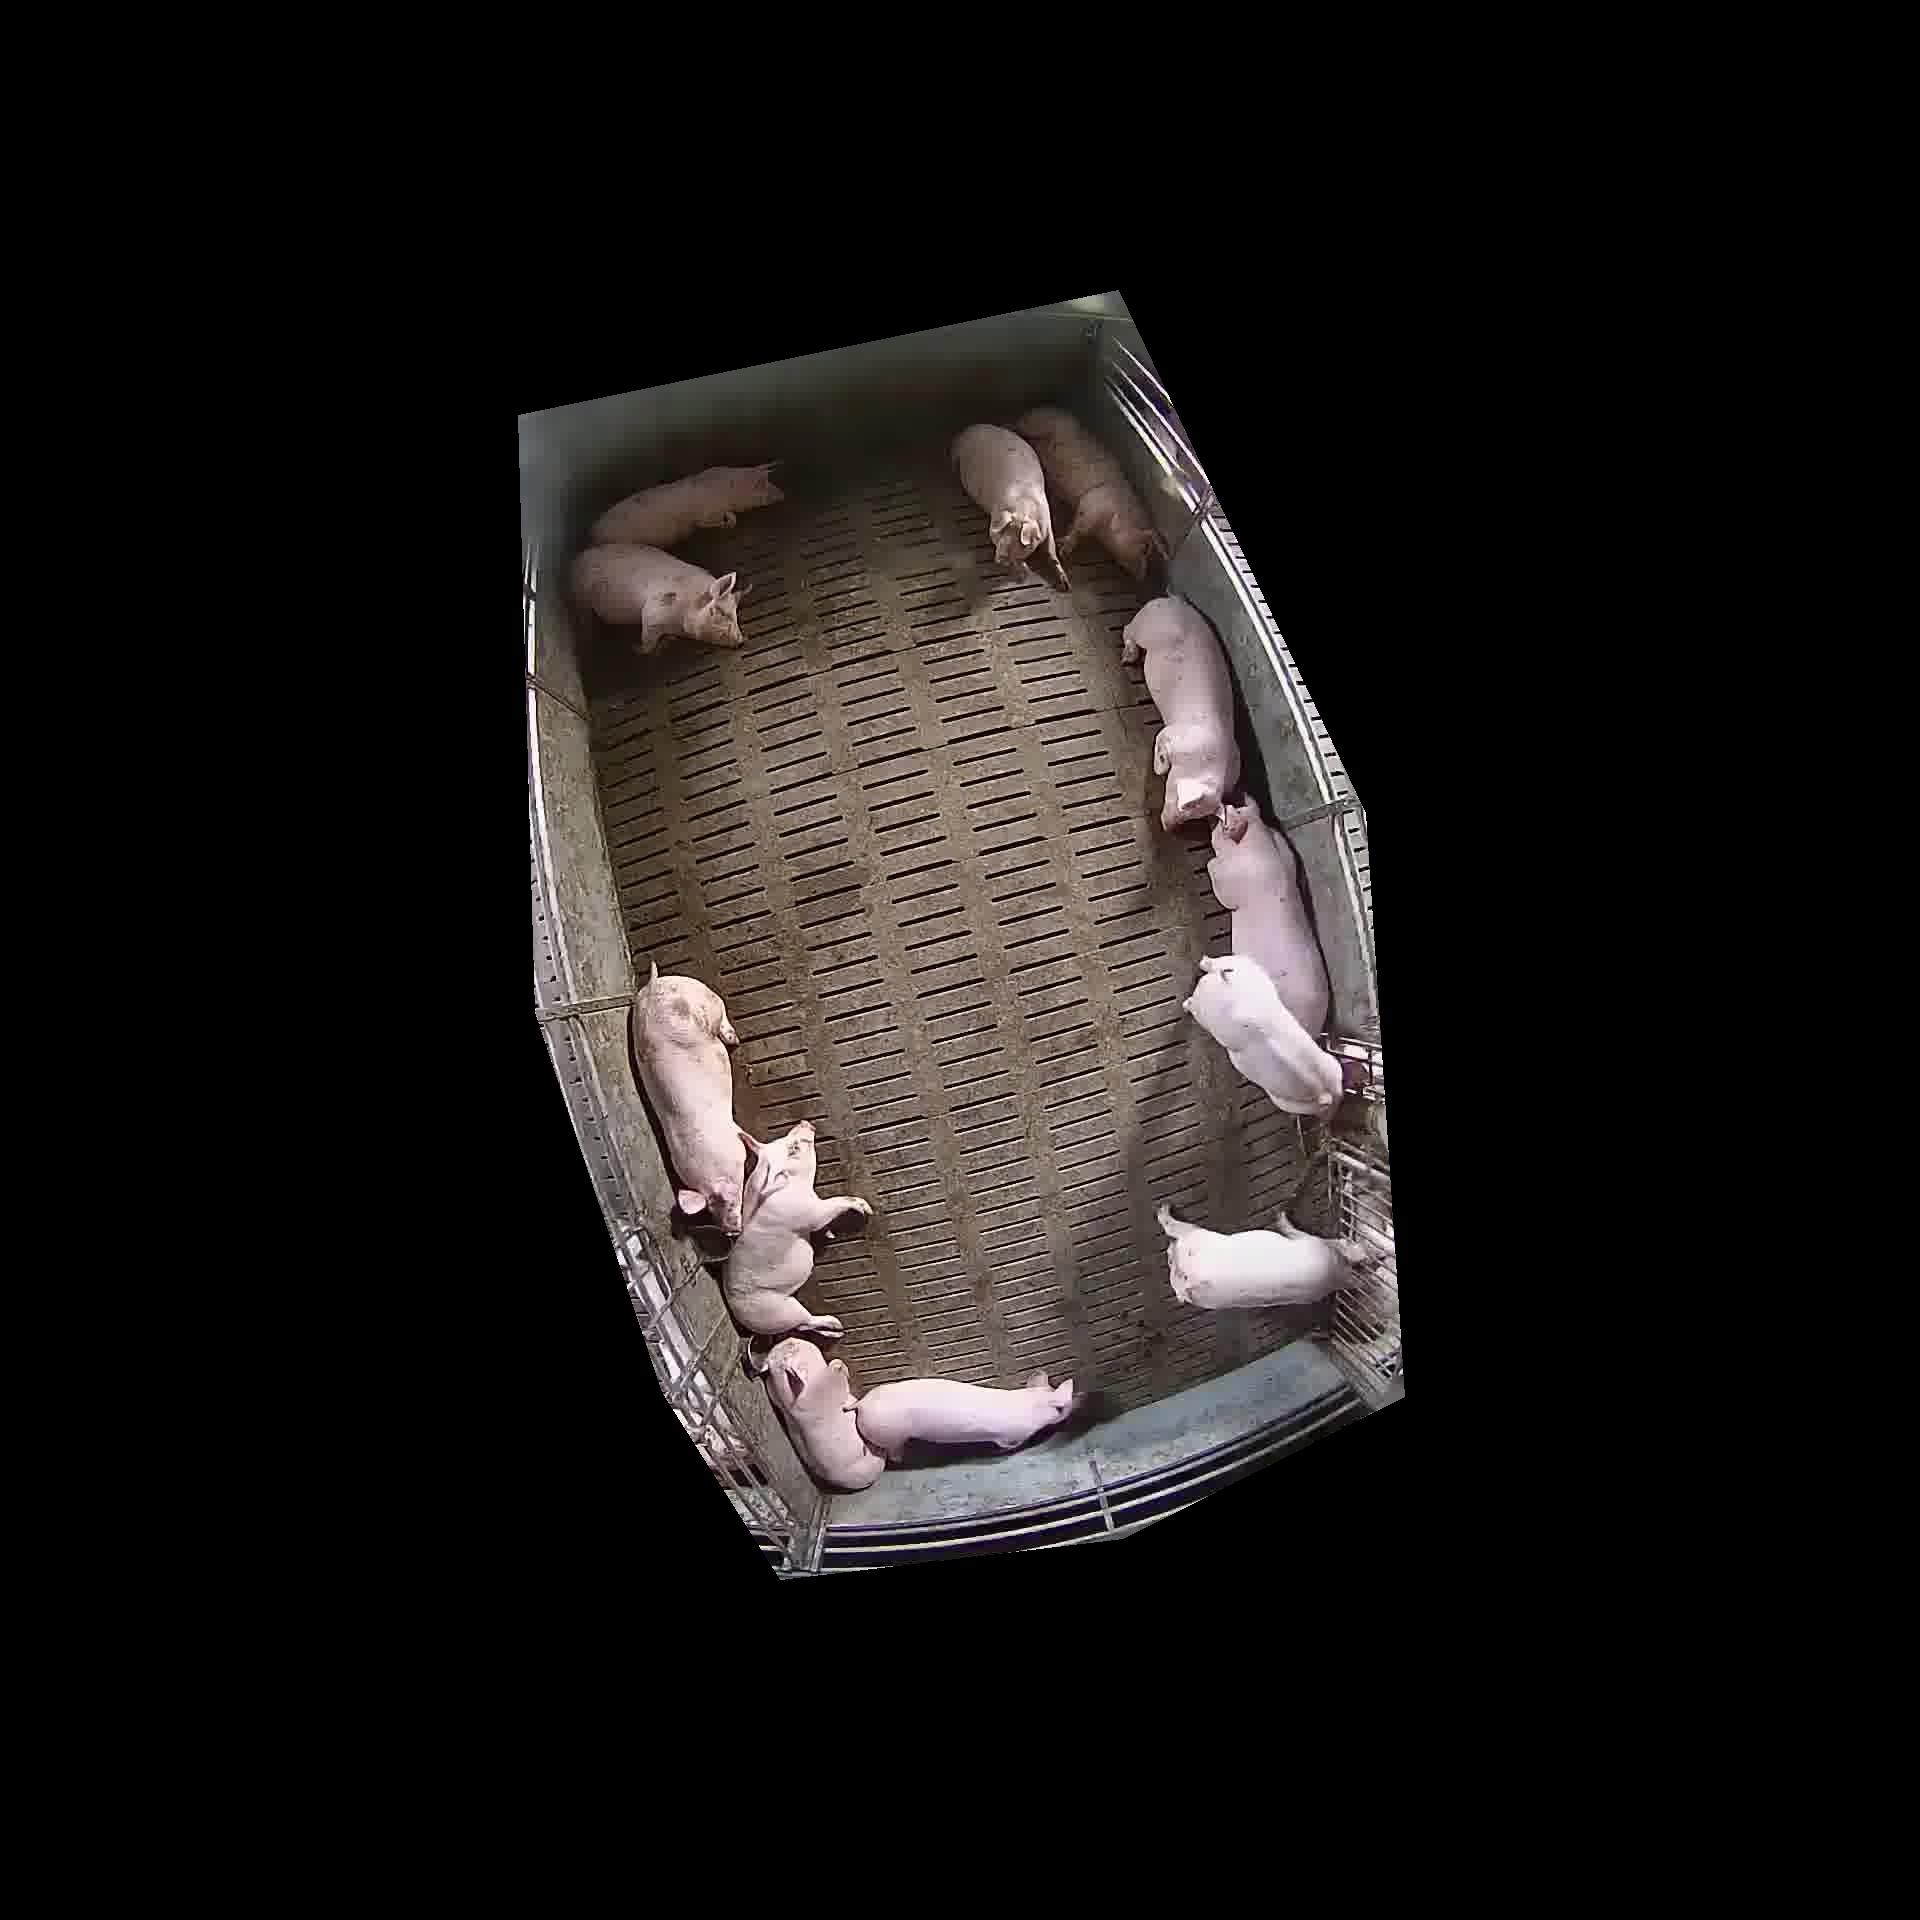pig: (726, 1120, 872, 1335), (631, 965, 745, 1234), (1206, 789, 1326, 1037), (1124, 596, 1240, 828), (1016, 406, 1166, 578), (1185, 955, 1342, 1116), (1157, 1204, 1368, 1306), (949, 424, 1067, 589), (761, 1336, 884, 1489), (571, 543, 744, 652), (856, 1375, 1076, 1458), (591, 464, 782, 547)
